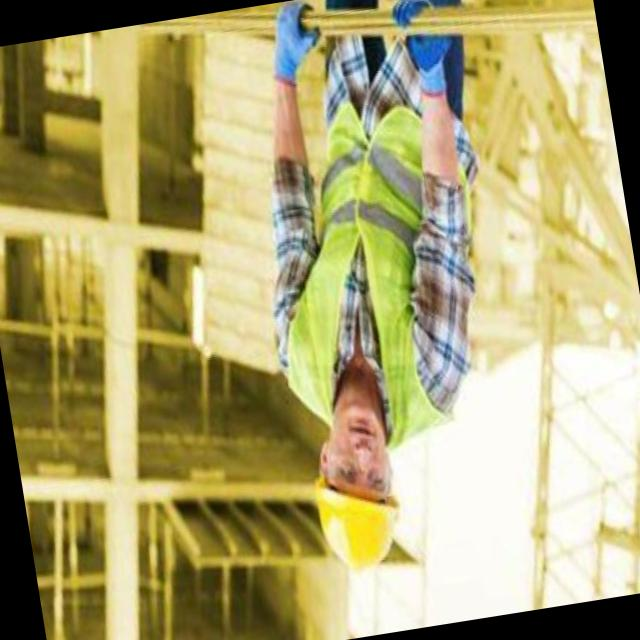gloved: (394, 0, 459, 101), (261, 0, 328, 92)
